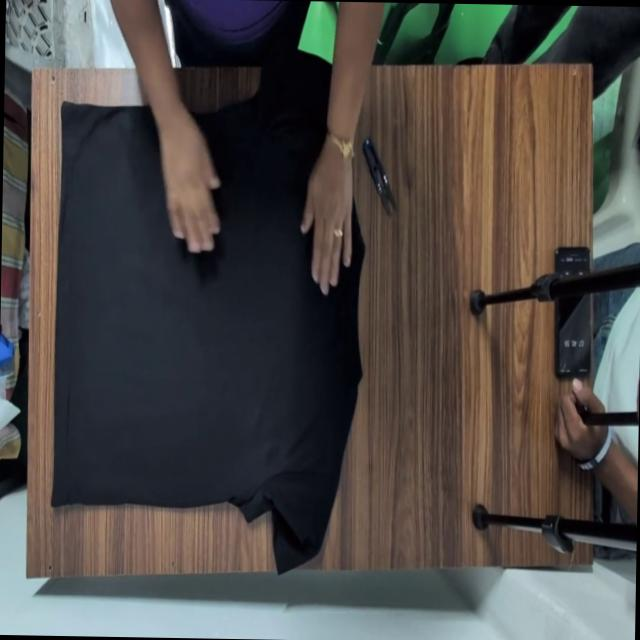new-garment: (52, 56, 363, 570)
